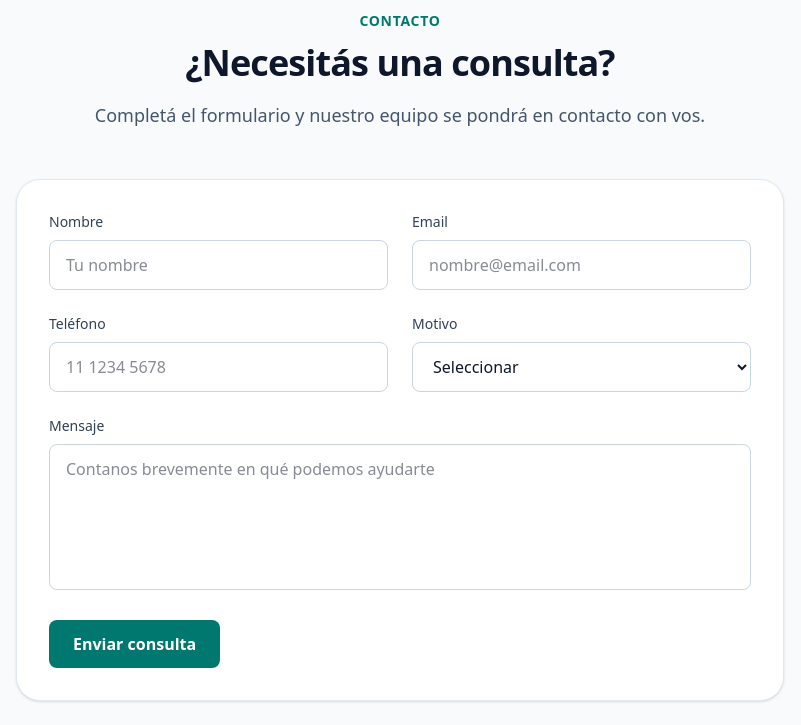
Scenario: Contact › submits a valid form and shows success message
In the field labelled "Nombre": (218, 265) [49,240,388,290], type "Juan Pérez"
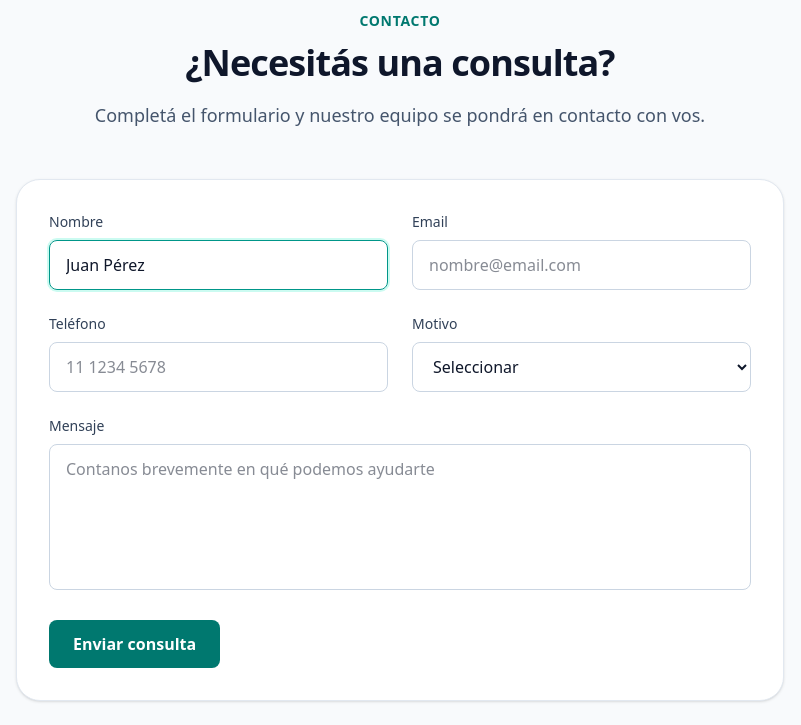
In the field labelled "Email": (582, 265) [412,240,751,290], type "juan@email.com"
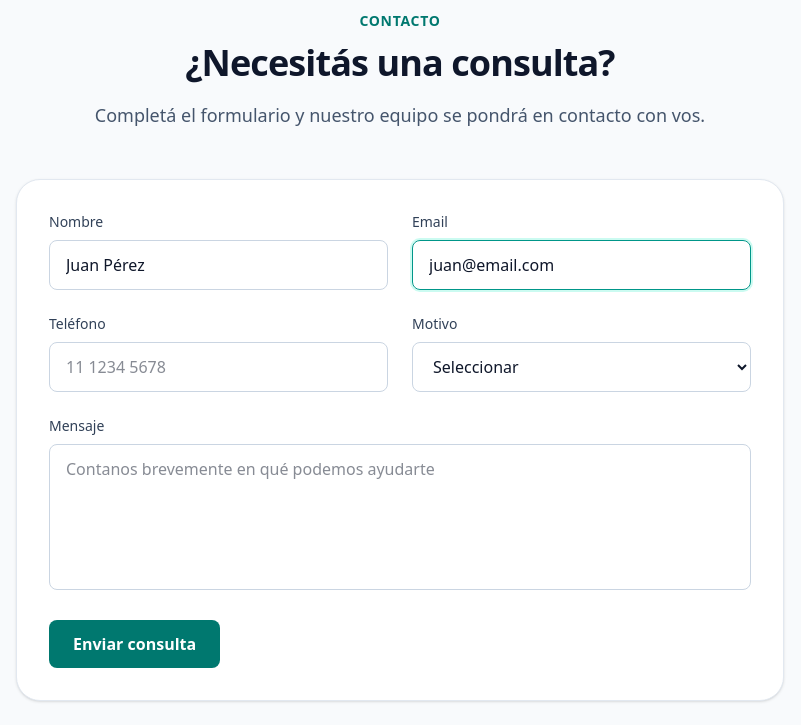
In the field labelled "Teléfono": (218, 367) [49,342,388,392], type "1122334455"
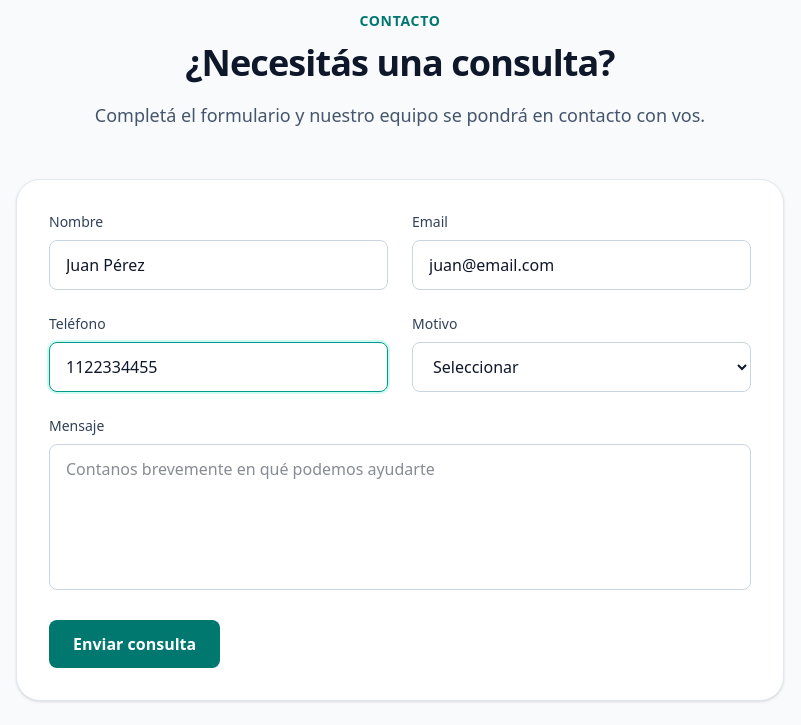
Select "Consulta general" in the dropdown labelled "Motivo": (582, 367) [412,342,751,392]
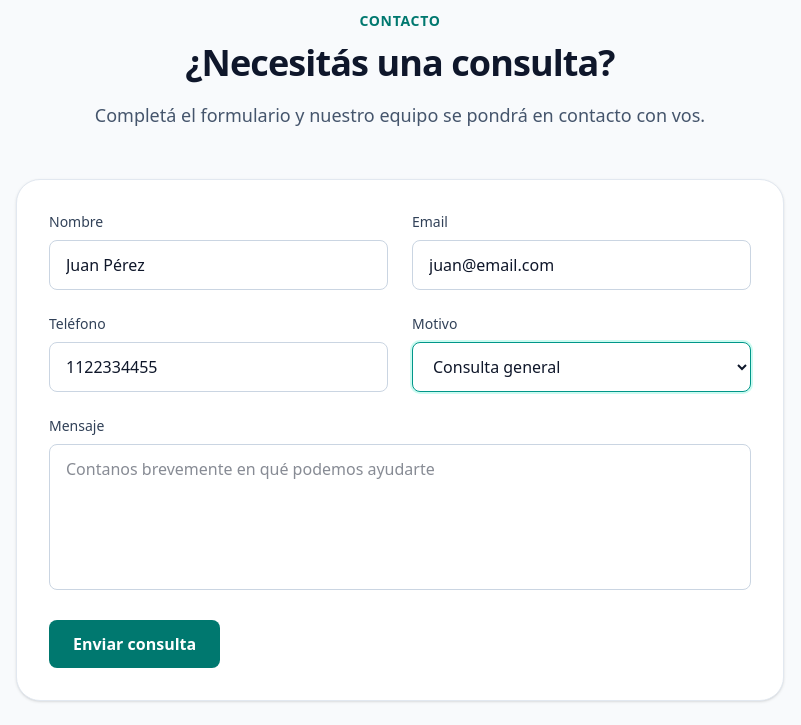
In the text box labelled "Mensaje": (400, 517) [49,444,751,590], type "Quiero solicitar una consulta para mi mascota."
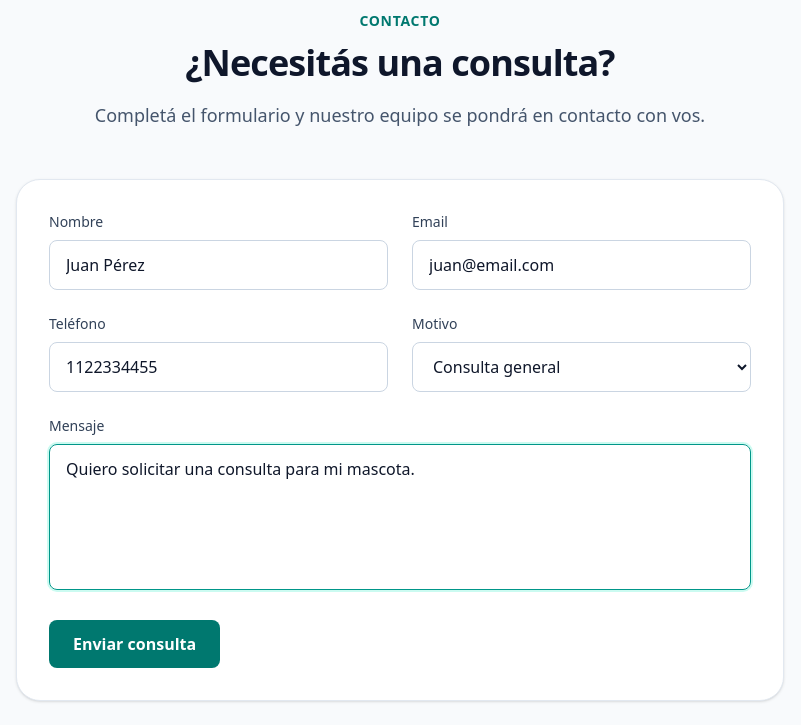
Click the button "Enviar consulta": (135, 644) [49,620,220,668]
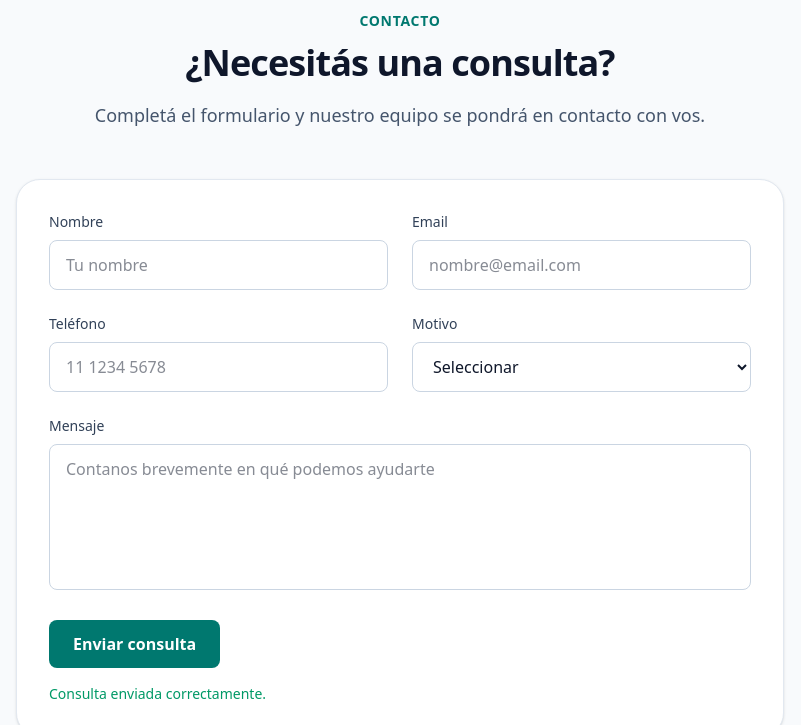
Result: the text "Consulta enviada correctamente." is shown at [49,684,266,703]
